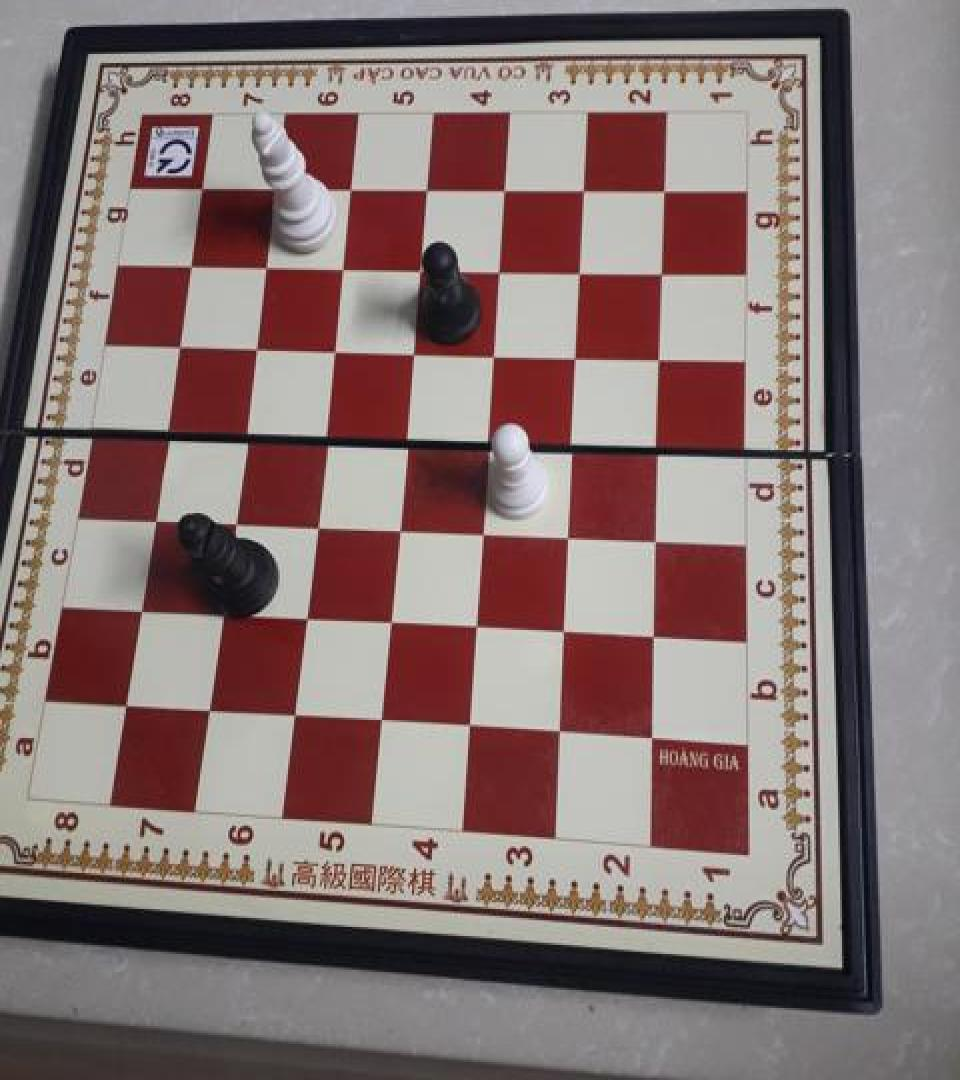xcorner: (111, 687, 141, 721), (194, 693, 224, 727), (278, 698, 308, 732), (365, 704, 395, 738), (453, 710, 483, 744), (544, 716, 574, 750), (637, 722, 667, 756), (206, 596, 236, 630), (373, 605, 403, 639), (460, 610, 490, 644), (548, 614, 578, 648), (639, 620, 669, 654), (217, 504, 247, 538), (298, 507, 328, 541), (381, 510, 411, 544), (465, 514, 495, 548), (552, 518, 582, 552), (640, 522, 670, 556), (150, 413, 180, 447), (227, 415, 257, 449), (307, 418, 337, 452), (471, 423, 501, 457), (555, 425, 585, 459), (642, 428, 672, 462), (161, 330, 191, 364), (238, 330, 268, 364), (315, 332, 345, 366), (395, 334, 425, 368), (476, 335, 506, 369), (559, 336, 589, 370), (644, 338, 674, 372), (173, 250, 203, 284), (247, 250, 277, 284), (324, 251, 354, 285), (402, 251, 432, 285), (481, 252, 511, 286), (562, 252, 592, 286), (645, 253, 675, 287), (184, 172, 214, 206), (257, 172, 287, 206), (332, 172, 362, 206), (408, 172, 438, 206), (486, 171, 516, 205), (565, 171, 595, 205), (647, 171, 677, 205), (125, 592, 155, 625), (288, 601, 318, 634), (137, 501, 167, 534), (388, 421, 418, 454)
